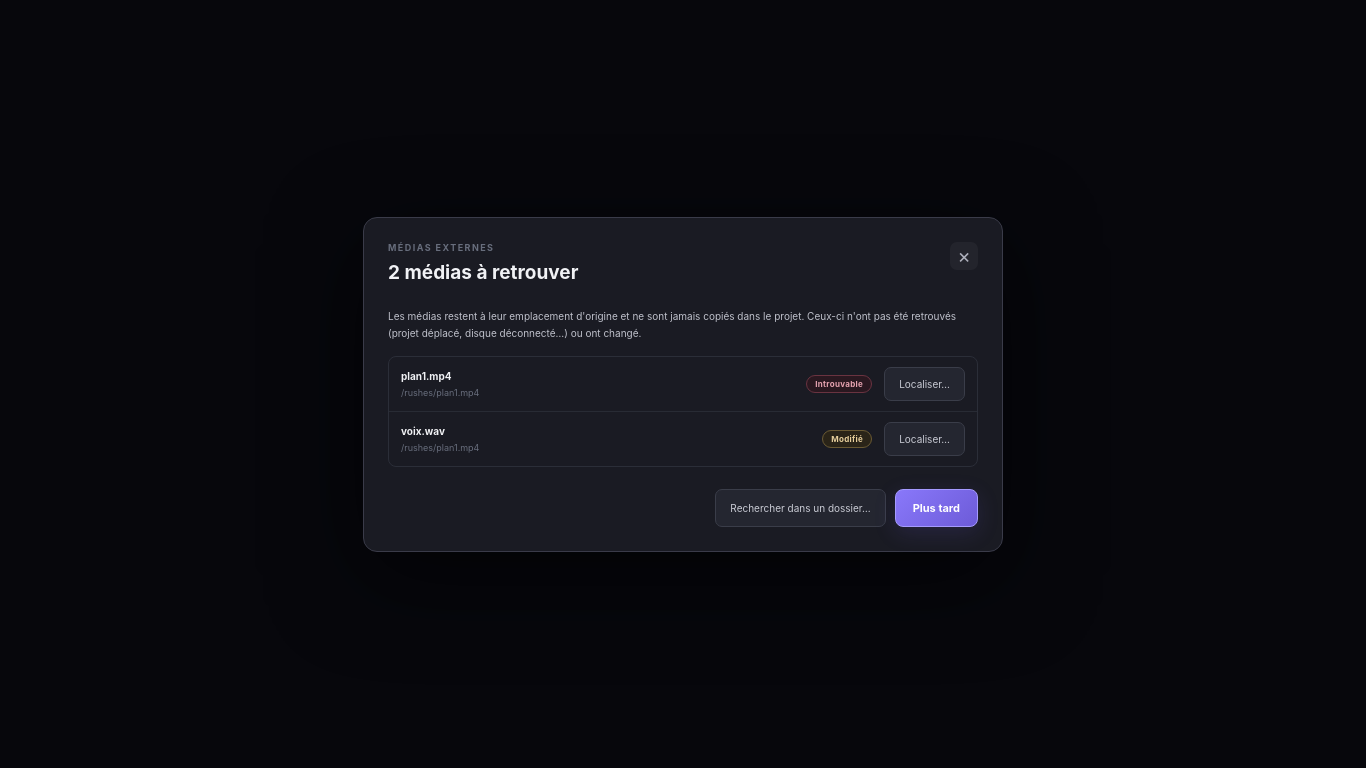
it: MissingMediaDialog › indique honnêtement qu'aucune correspondance n'a été trouvée
The image size is (1366, 768).
Click the button "Rechercher dans un dossier…": {"x": 801, "y": 508} [715,488,886,526]
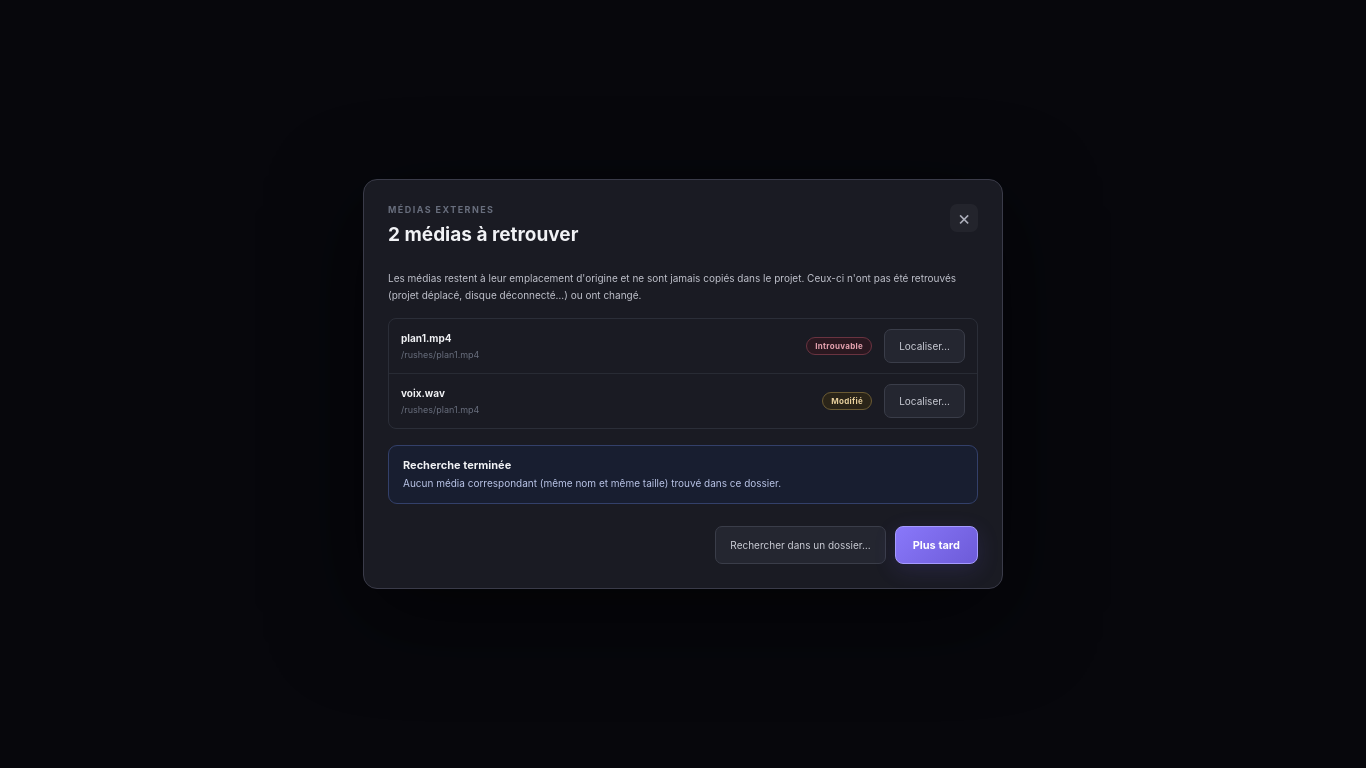
Now the text "Aucun média correspondant" is shown, box [403,477,781,489]
